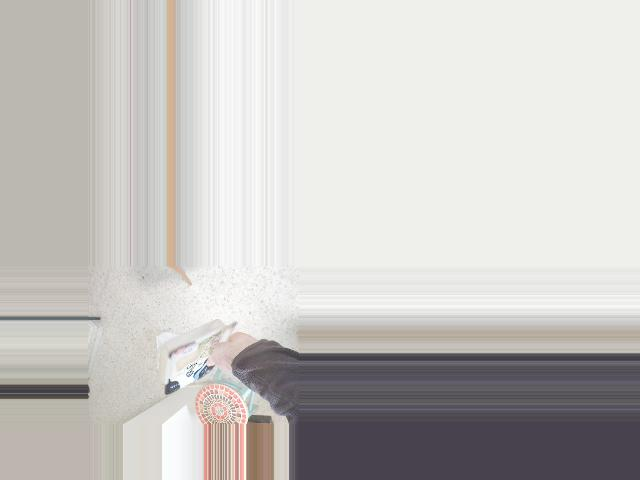cheese: (155, 310, 255, 408)
